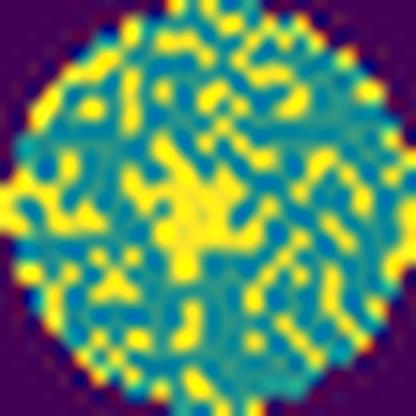Center: (119, 133, 277, 284)
